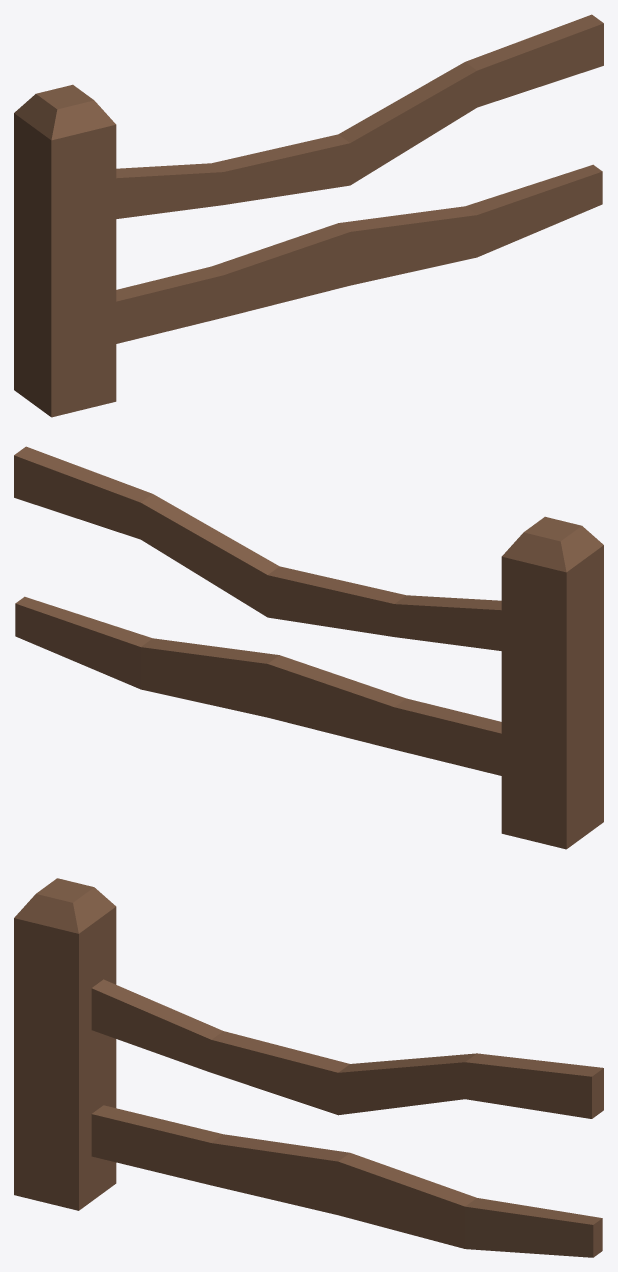
Rendered from WoodFence2.fbx.
3 renders of one model, top to bottom at view 1: azimuth 30°, elevation 25°; view 2: azimuth 150°, elevation 25°; view 3: azimuth 330°, elevation 25°, orthographic.
Parts seen in each view (by area): view 1: Cube.002; view 2: Cube.002; view 3: Cube.002.
Boxes of the visible parts, bbox=[...] form: Cube.002: bbox=[14, 14, 603, 417]; Cube.002: bbox=[14, 446, 603, 849]; Cube.002: bbox=[14, 878, 603, 1257].
Size of the model in its own units: 155 by 78.15 by 17.75.
